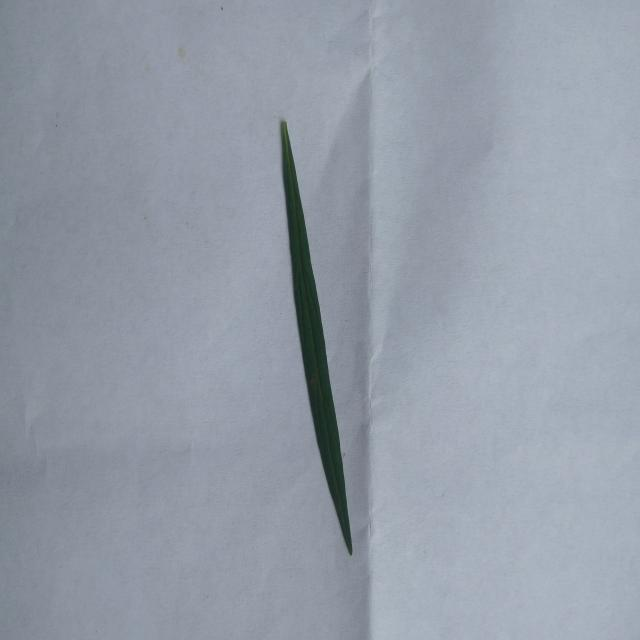thambe: (281, 120, 352, 553)
